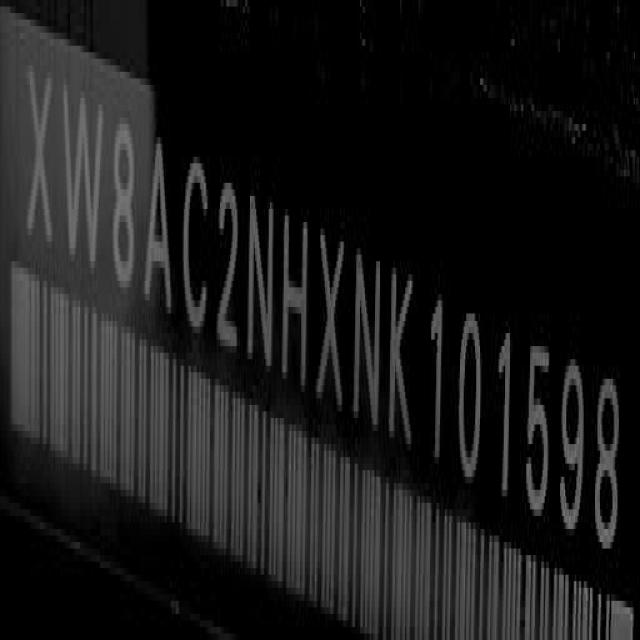0: (455, 300, 483, 486)
1: (428, 290, 445, 482), (498, 326, 512, 508)
2: (215, 162, 239, 368)
5: (525, 341, 551, 527)
8: (594, 368, 620, 558), (113, 114, 136, 292)
9: (558, 365, 586, 554)
A: (142, 136, 174, 314)
C: (183, 150, 209, 341)
H: (282, 203, 309, 390)
K: (386, 249, 418, 450)
N: (354, 240, 382, 440), (248, 184, 276, 375)
W: (61, 84, 106, 280)
X: (316, 208, 345, 421), (26, 50, 55, 252)
